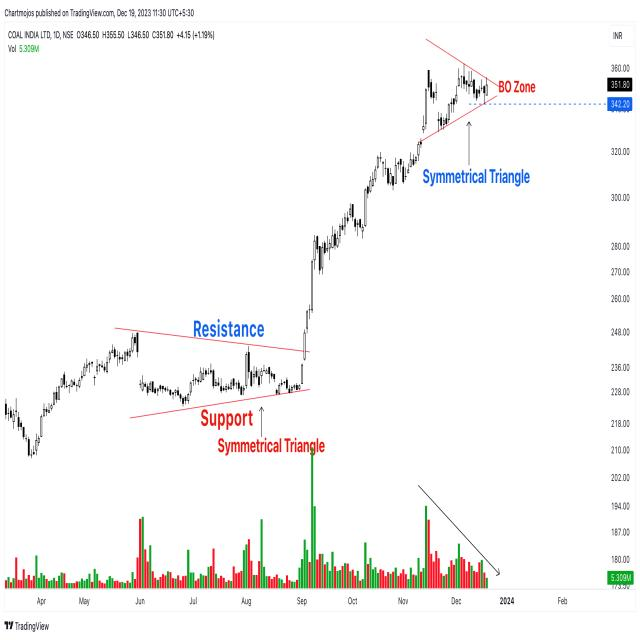Triangle: (414, 32, 499, 145)
